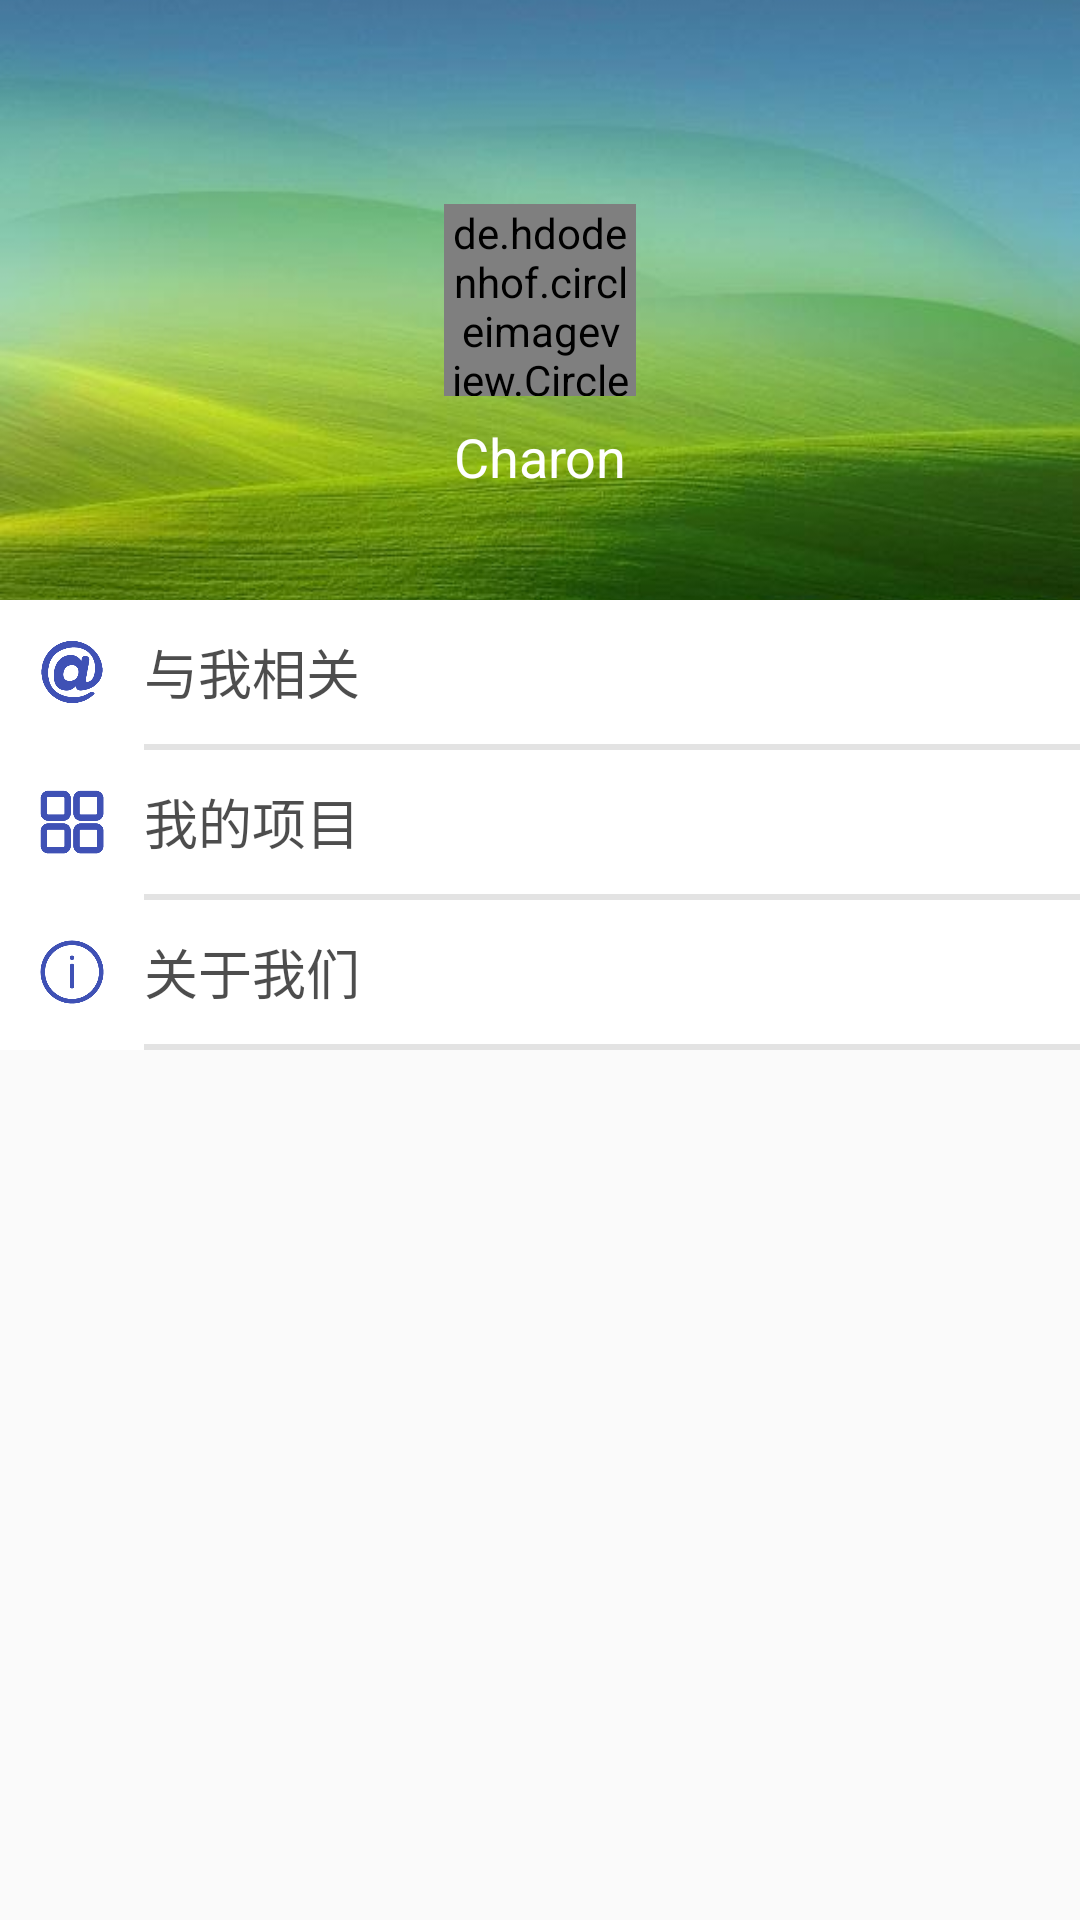

Icon bounding boxes for this 1080*1920 phone screenshot, format [x1,y1,x2,y2]:
me aboutus: [40,940,104,1004]
me at: [41,641,103,703]
me project: [40,791,104,854]
